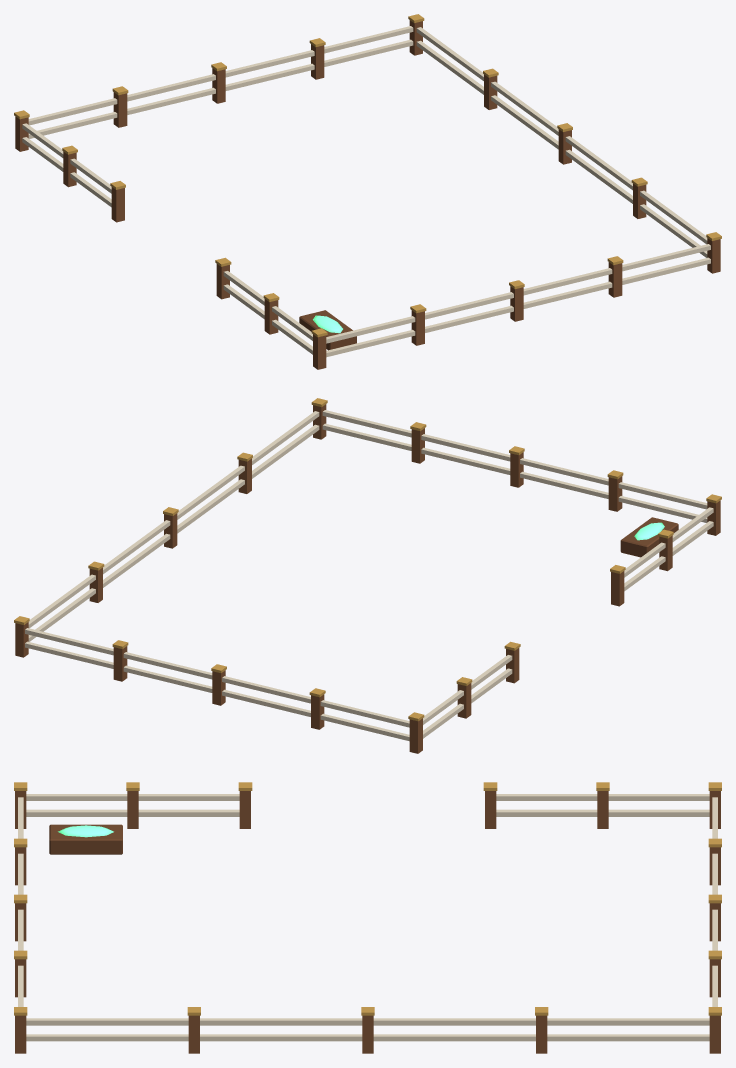
File: HabitatPen_Prototype.fbx
The picture shows the model from 3 angles, top to bottom: view 1: azimuth 30°, elevation 25°; view 2: azimuth 150°, elevation 25°; view 3: azimuth 270°, elevation 25°; orthographic projection. The views are drawn at different scales.
Visible parts, largest first — view 1: TimberRails, TimberPosts, BrassCaps, FeedTrough; view 2: TimberRails, TimberPosts, BrassCaps, FeedTrough; view 3: TimberRails, TimberPosts, BrassCaps, FeedTrough, TroughFill.
Part boxes in pixels (x1,y1,x2,y2): TimberRails: (22,26,710,357); TimberPosts: (15,20,720,369); BrassCaps: (14,14,721,337); FeedTrough: (299,310,356,350); TimberRails: (25,410,713,741); TimberPosts: (15,404,720,753); BrassCaps: (14,398,721,721); FeedTrough: (620,517,678,557); TimberRails: (18,794,717,1041); TimberPosts: (15,791,720,1053); BrassCaps: (14,782,721,1015); FeedTrough: (49,824,122,854); TroughFill: (58,825,113,837).
Bounding box in the file's own units: 26.66 × 2.24 × 34.66.
